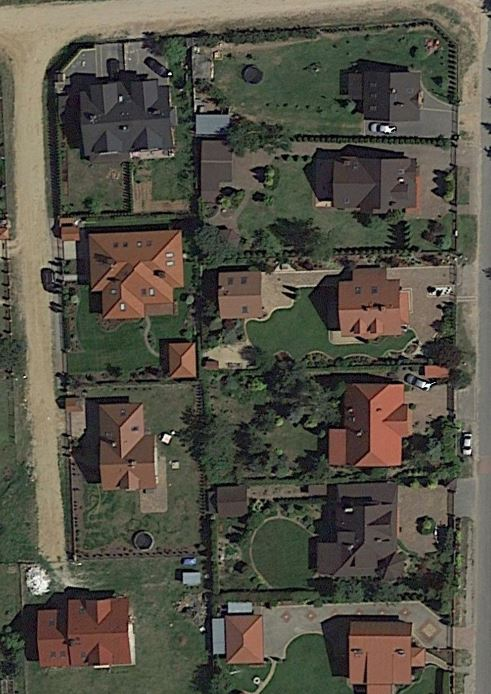family house: (306, 478, 418, 586), (81, 221, 190, 326), (28, 592, 138, 673), (323, 378, 415, 469), (345, 612, 432, 694), (92, 396, 163, 494), (321, 150, 426, 216), (332, 260, 415, 343), (341, 66, 428, 131)
garage: (214, 605, 272, 668), (211, 266, 268, 322), (192, 138, 237, 200), (207, 479, 253, 519), (162, 340, 197, 383), (192, 109, 239, 141)
terrace house: (72, 69, 180, 168)
